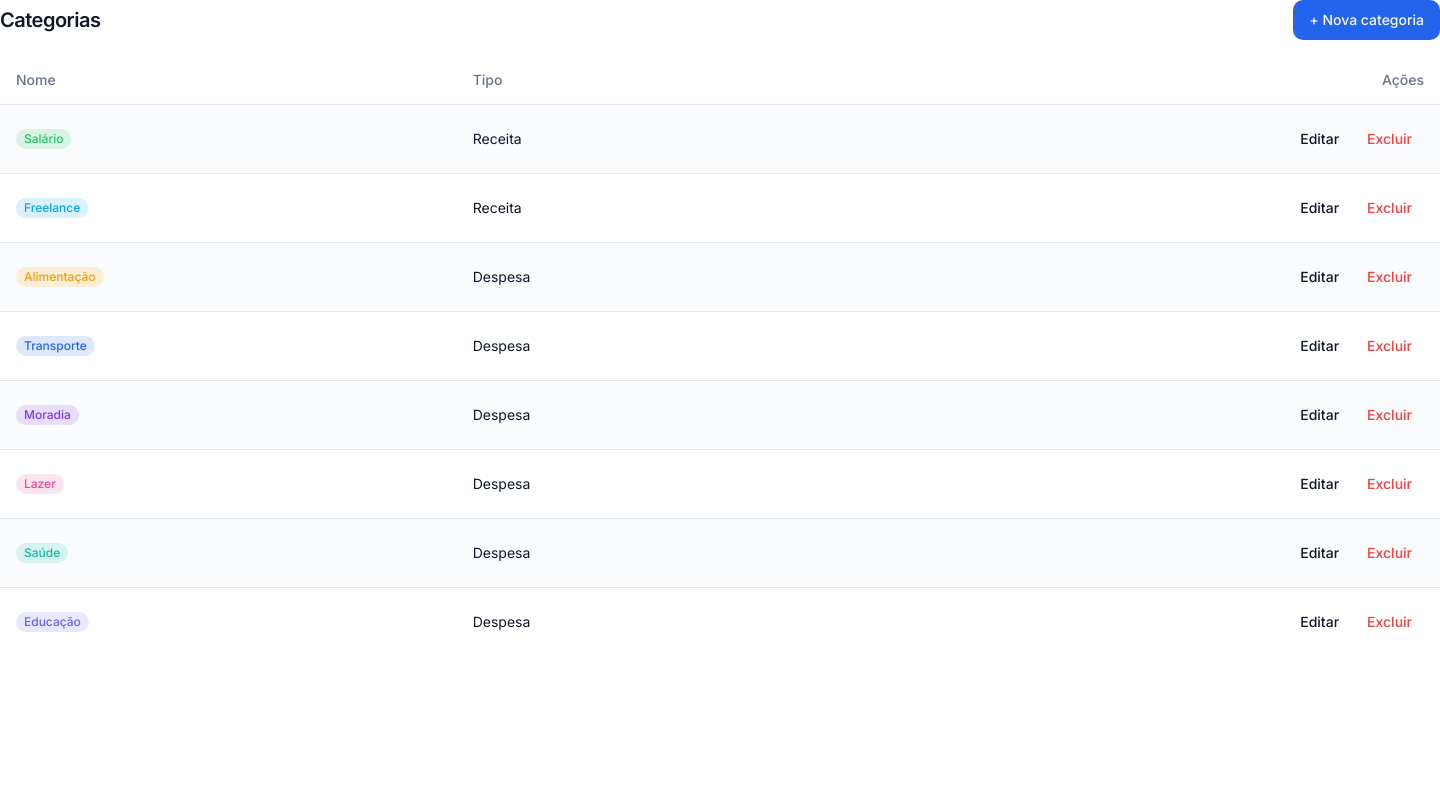
Test: CategoriesPage (AC-004, AC-006, AC-008) › exclui uma categoria sem vínculo com confirmação
The image size is (1440, 810).
Click the button "+ Nova categoria": click(1367, 20) [1293, 0, 1439, 40]
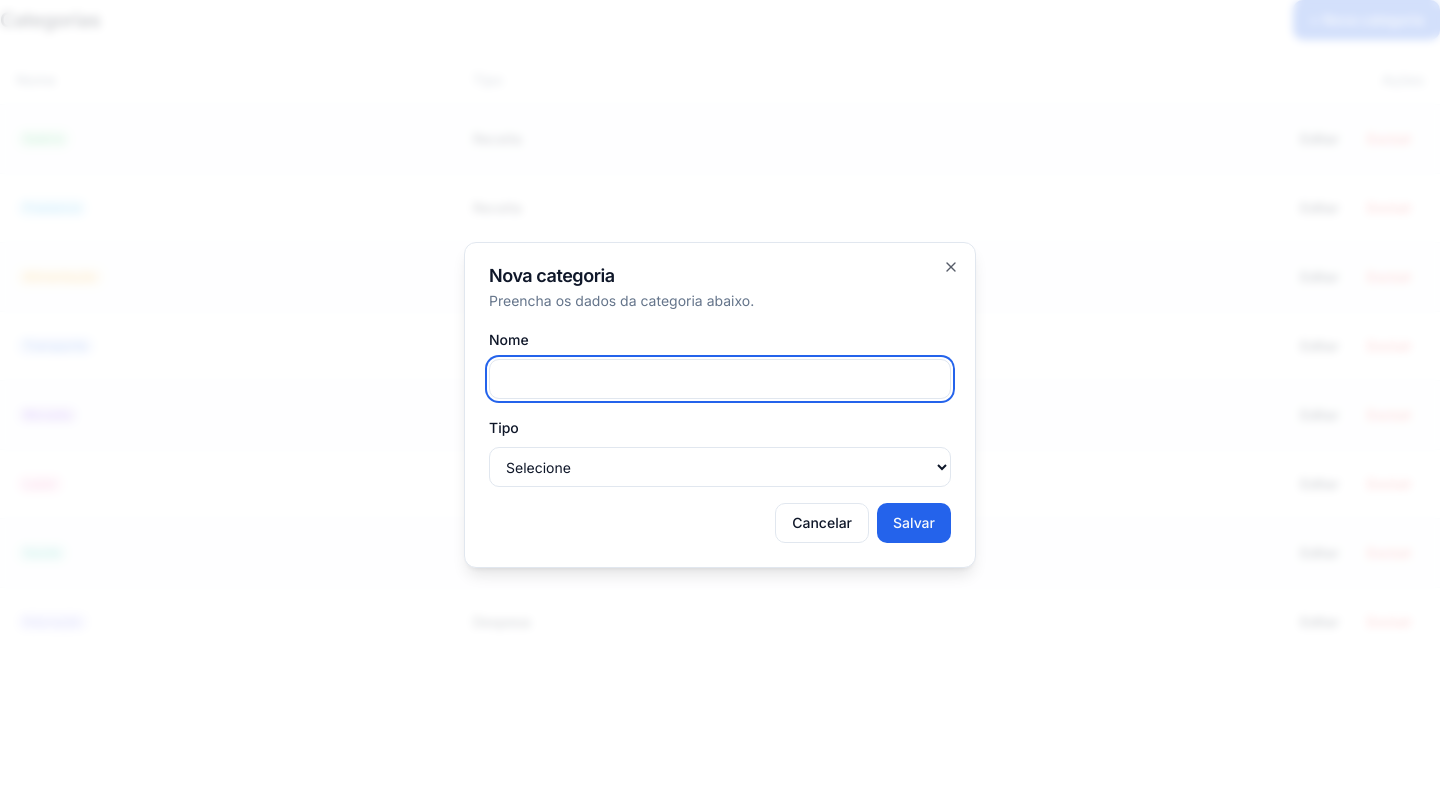
In the field labelled "Nome": (720, 379) [489, 359, 951, 399], type "Temporária"
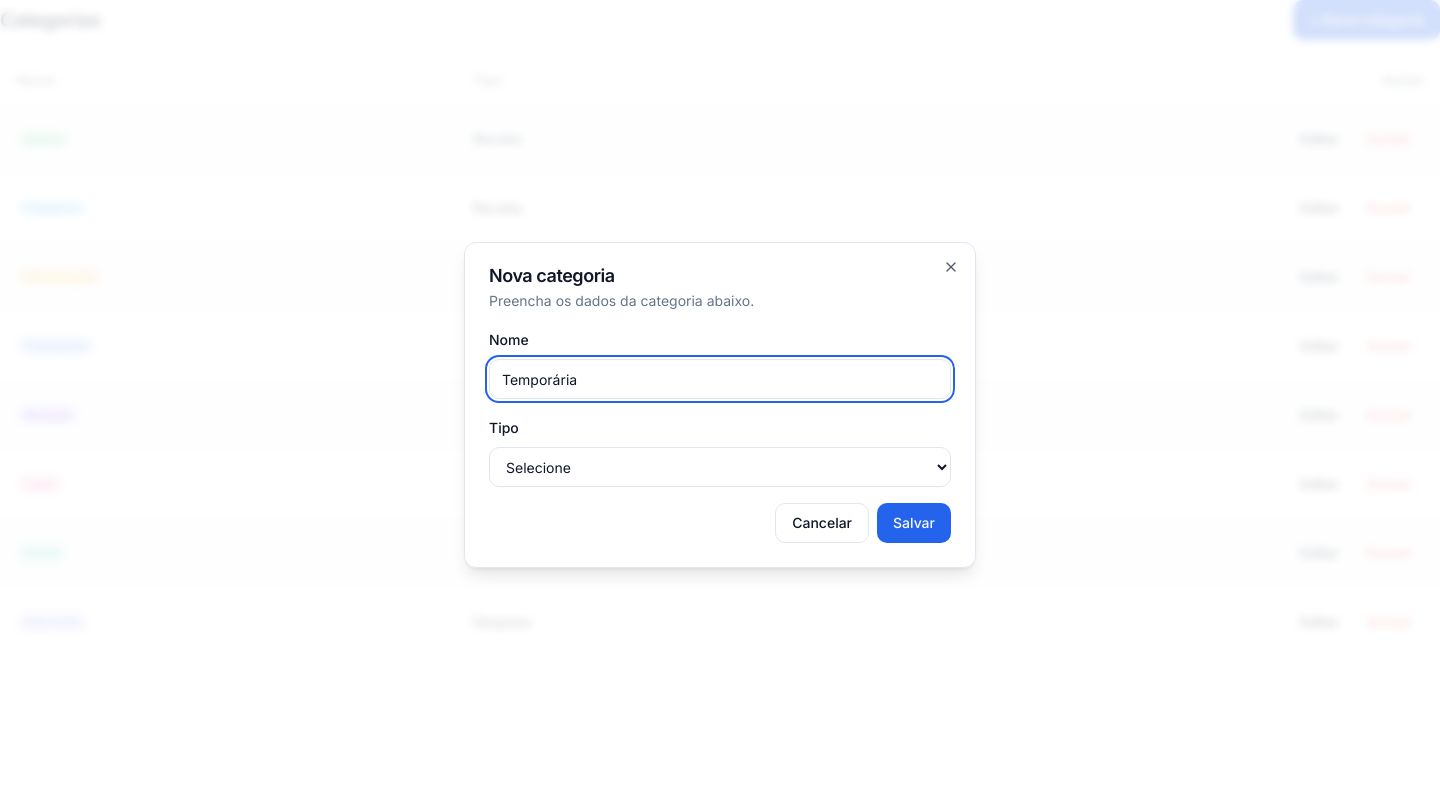
Select "Despesa" in the dropdown labelled "Tipo": (720, 467) [489, 447, 951, 487]
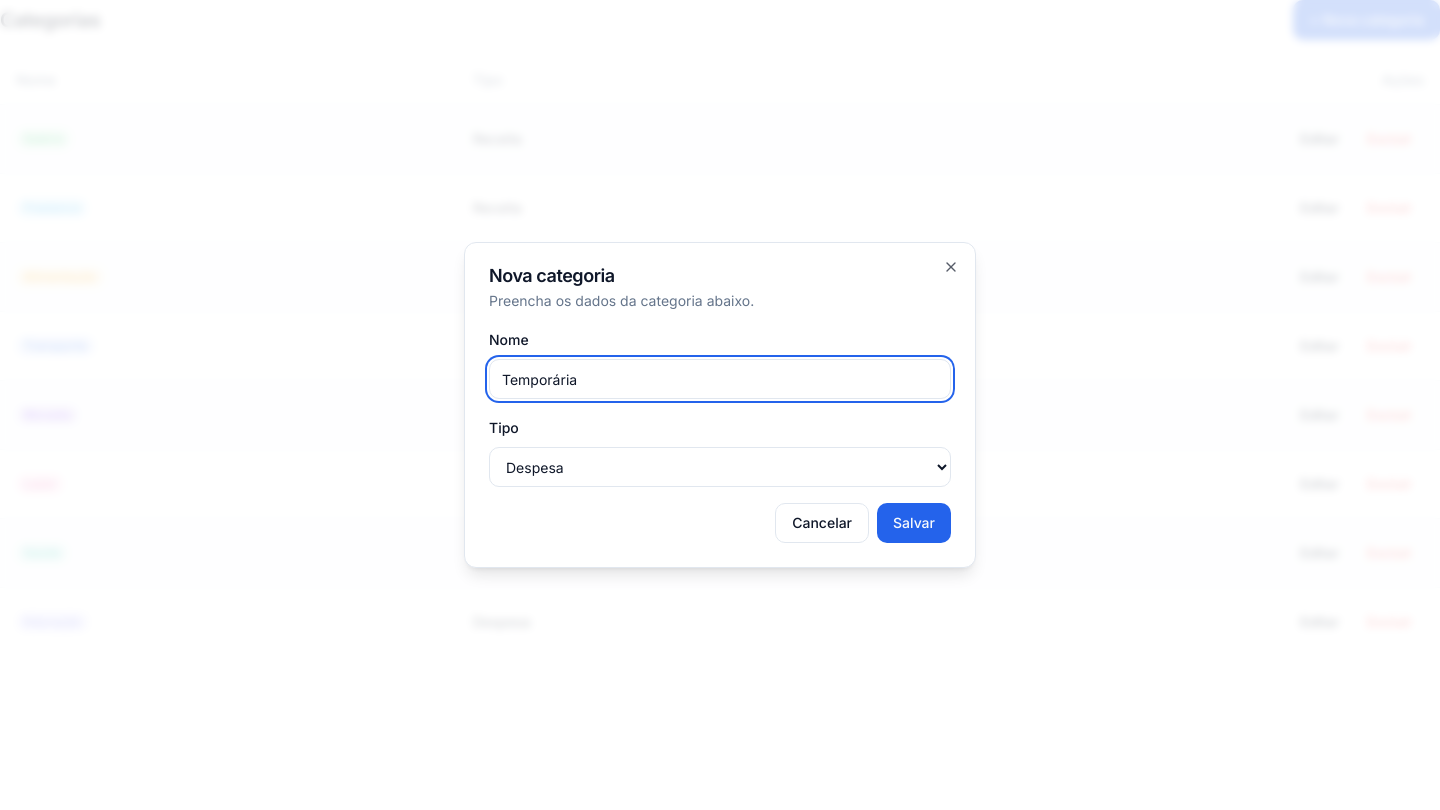
Click the button "Salvar": click(914, 523) [877, 503, 951, 543]
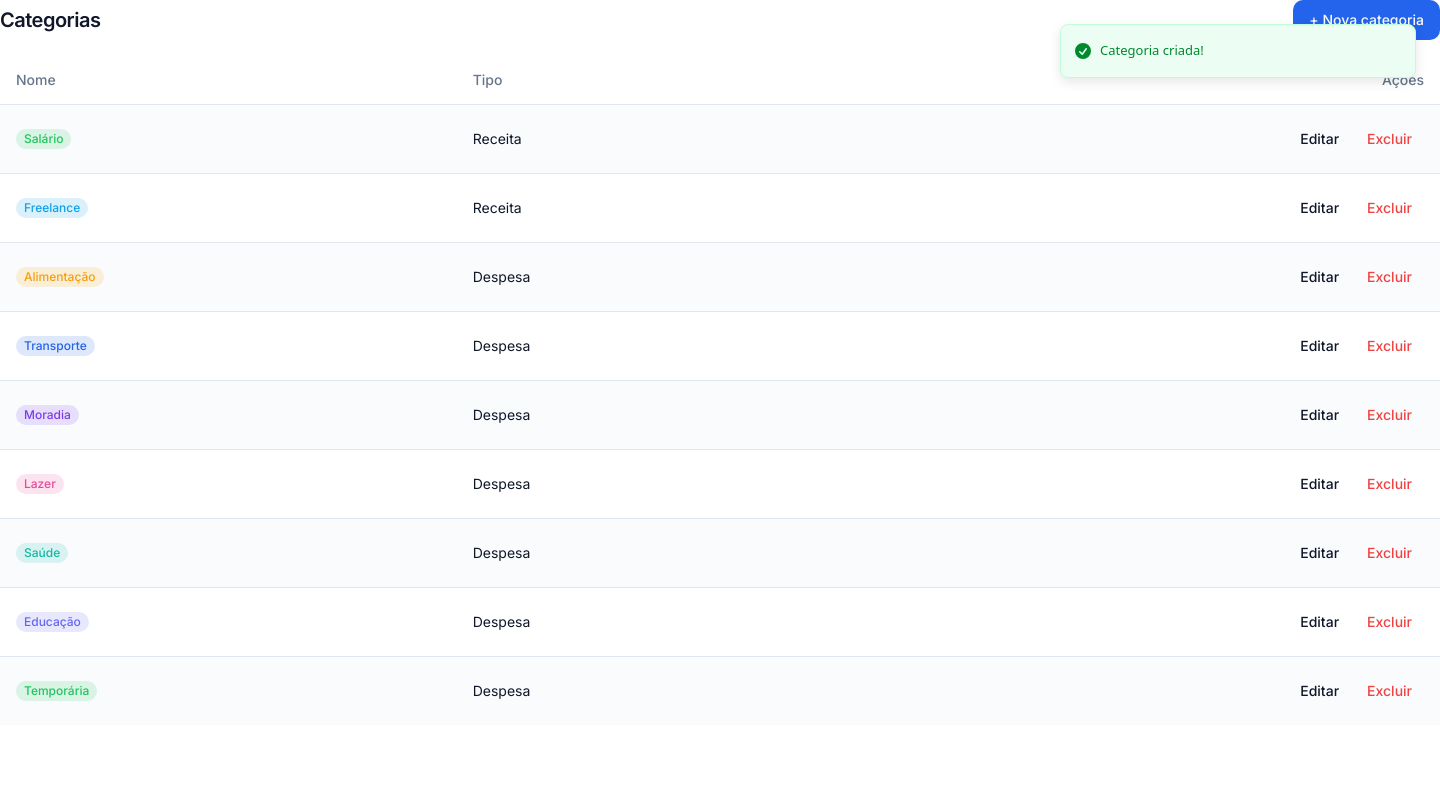
Expected: the text "Temporária" is shown, [16, 681, 97, 701]
Click the button "Excluir" in the row of "Temporária": click(1390, 690) [1355, 672, 1424, 708]
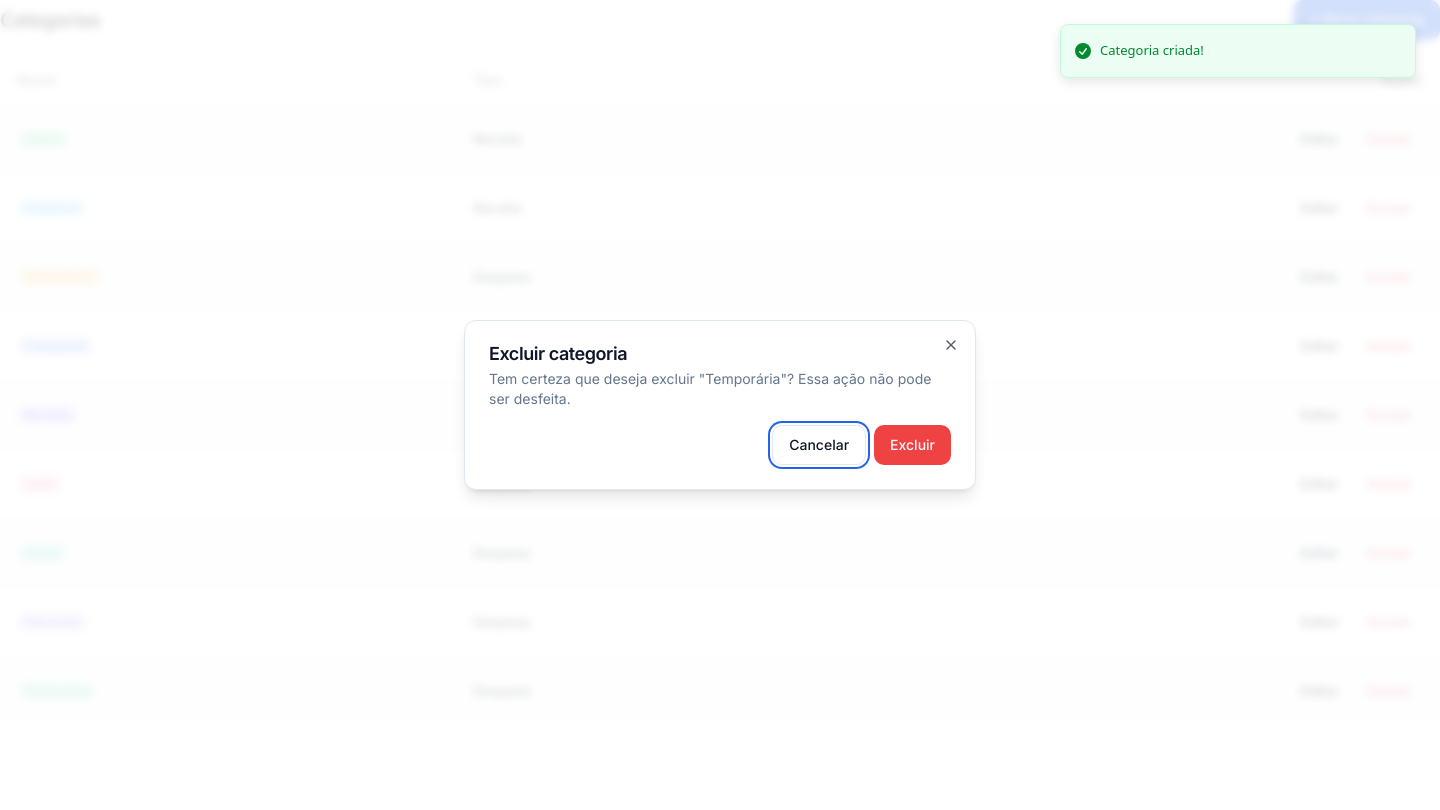
Expected: the dialog "Excluir categoria" is shown, [464, 320, 976, 490]
Click the button "Excluir": click(913, 445) [874, 425, 951, 465]
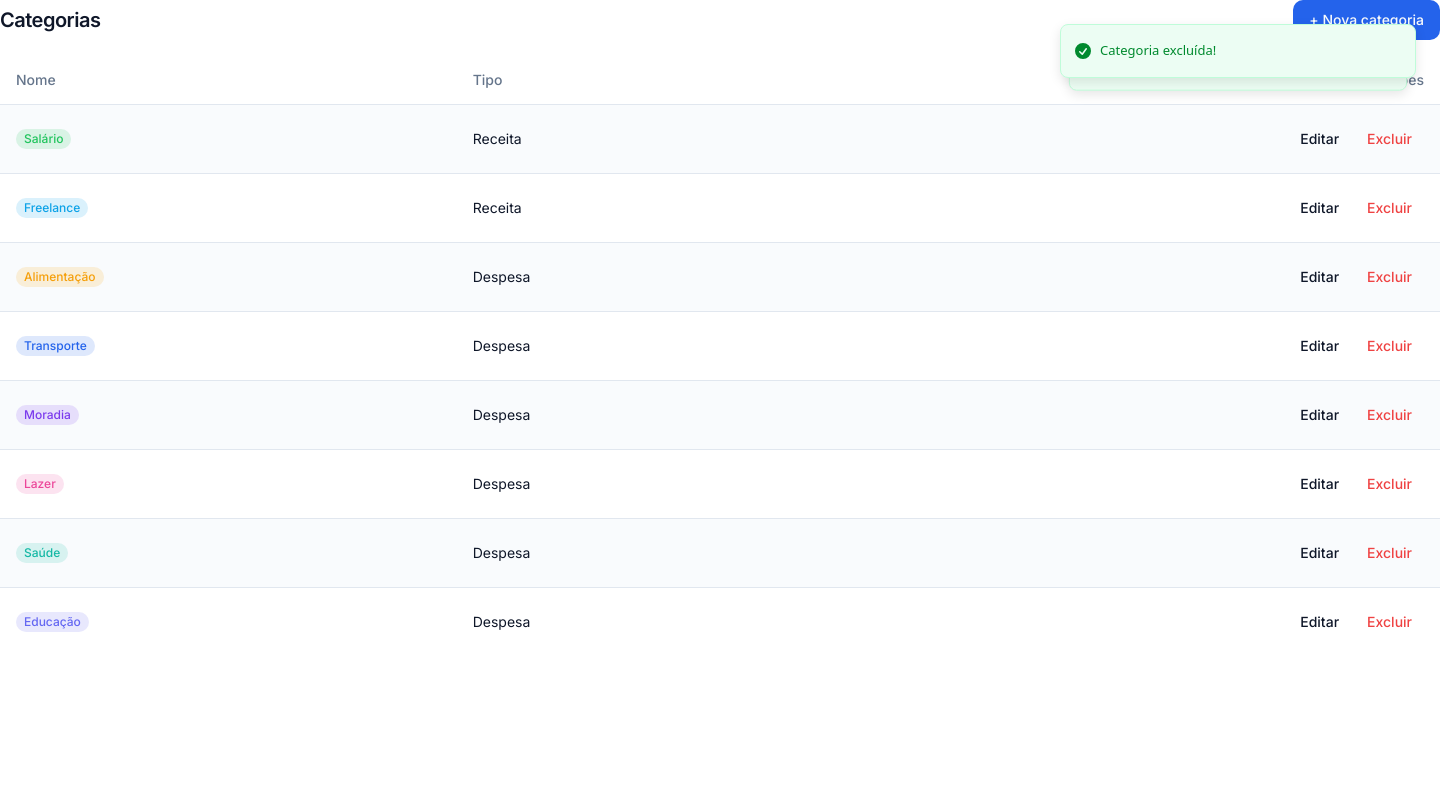
Expected: the text "Temporária" is not shown
Expected: the text "Categoria excluída!" is shown, [1100, 41, 1216, 60]
